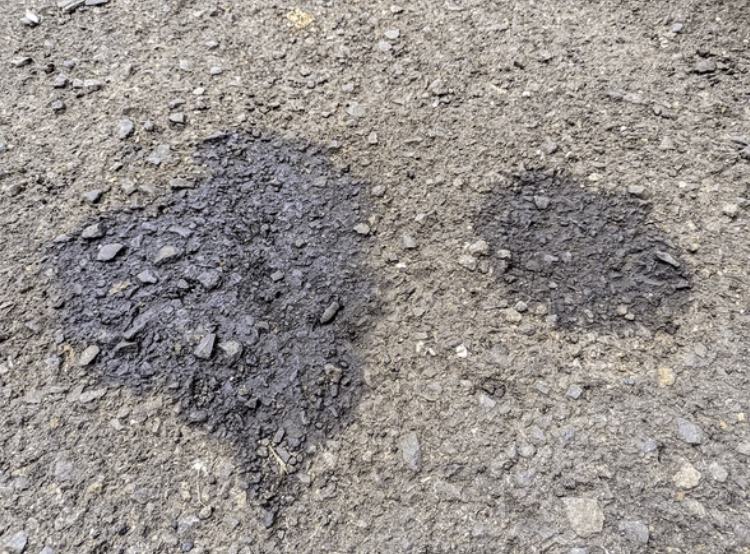oil: (25, 64, 188, 265), (235, 80, 352, 172)
